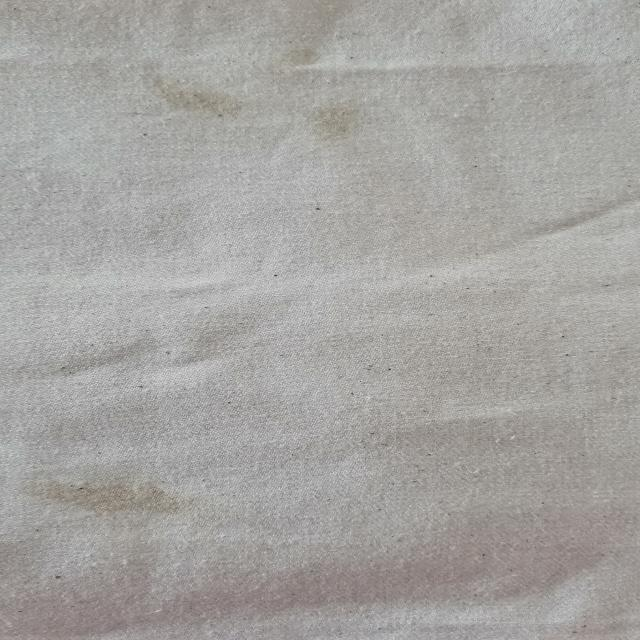taaaches: (3, 458, 227, 524), (124, 70, 234, 136), (256, 40, 349, 92), (306, 102, 388, 152)
